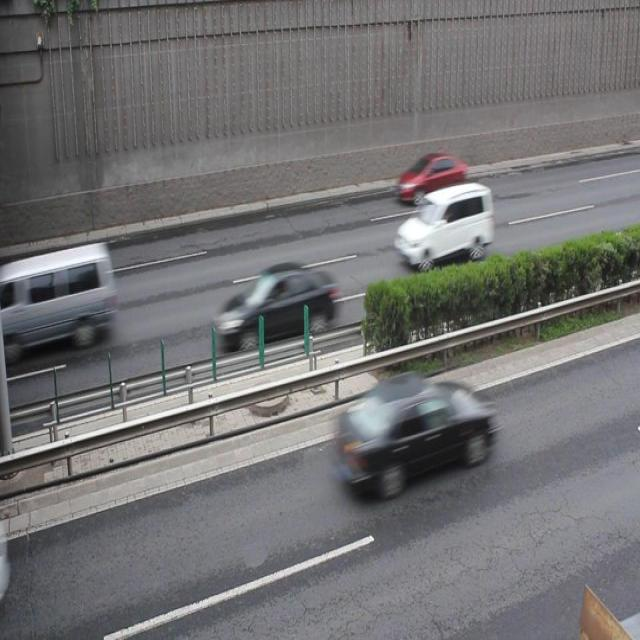car: (334, 368, 491, 498), (214, 260, 338, 352), (392, 182, 492, 270), (395, 152, 467, 208)
truck: (11, 242, 116, 354)
